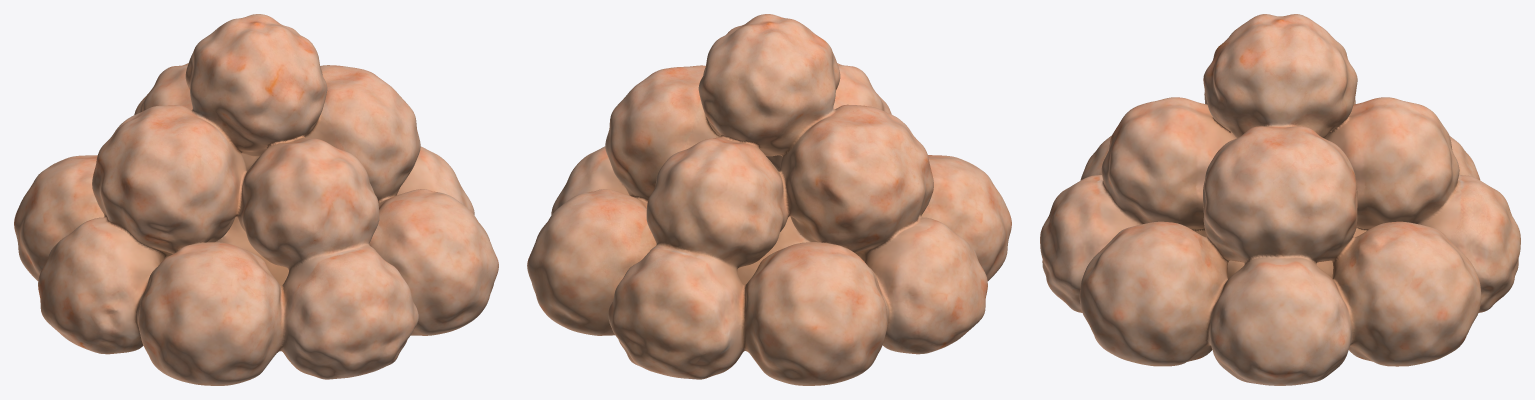
The model's file is shrimp_ball.fbx.
3 renders of one model, left to right at view 1: azimuth 30°, elevation 25°; view 2: azimuth 150°, elevation 25°; view 3: azimuth 270°, elevation 25°, orthographic.
Parts seen in each view (by area): view 1: Mesh_0; view 2: Mesh_0; view 3: Mesh_0.
Part boxes in pixels (bbox=[...]): Mesh_0: bbox=[14, 14, 498, 385]; Mesh_0: bbox=[527, 14, 1011, 385]; Mesh_0: bbox=[1040, 14, 1520, 385].
Bounding box in the file's own units: 190 × 127 × 190.
Materials: 1 (1 with a texture image).
